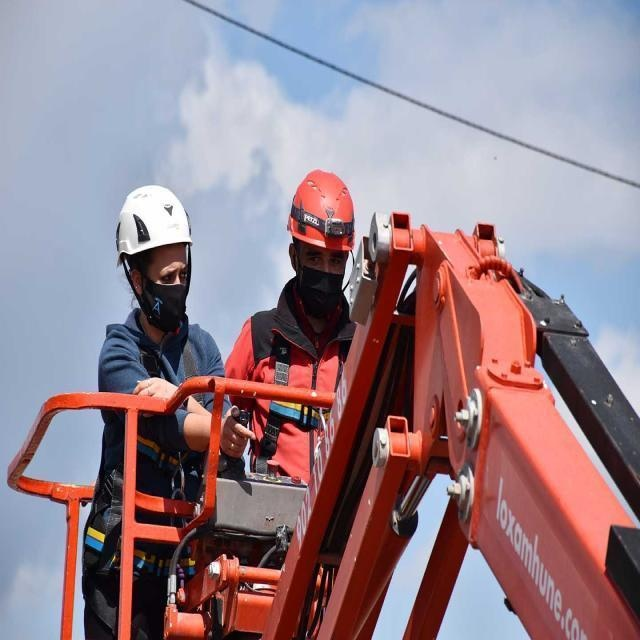Arnes_seguridad: (88, 311, 207, 593), (247, 308, 363, 527)
